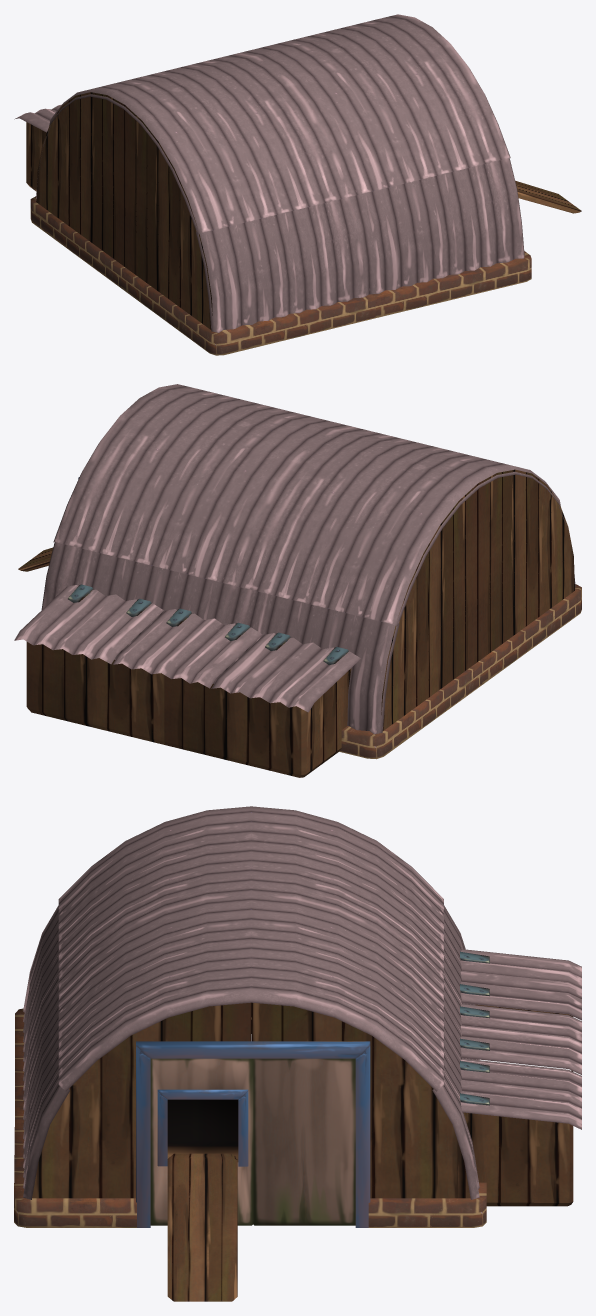
File: Henhouse.gltf
3 renders of one model, top to bottom at view 1: azimuth 30°, elevation 25°; view 2: azimuth 150°, elevation 25°; view 3: azimuth 270°, elevation 25°, orthographic. The views are drawn at different scales.
Parts seen in each view (by area): view 1: Henhouse-convcol; view 2: Henhouse-convcol; view 3: Henhouse-convcol.
Boxes of the visible parts, x1,y1,x2,y2 form: Henhouse-convcol: (14,14,581,355); Henhouse-convcol: (14,384,581,777); Henhouse-convcol: (14,806,581,1301).
Bounding box in the file's own units: 4.11 × 1.73 × 3.76.
Materials: 1 (1 with a texture image).
